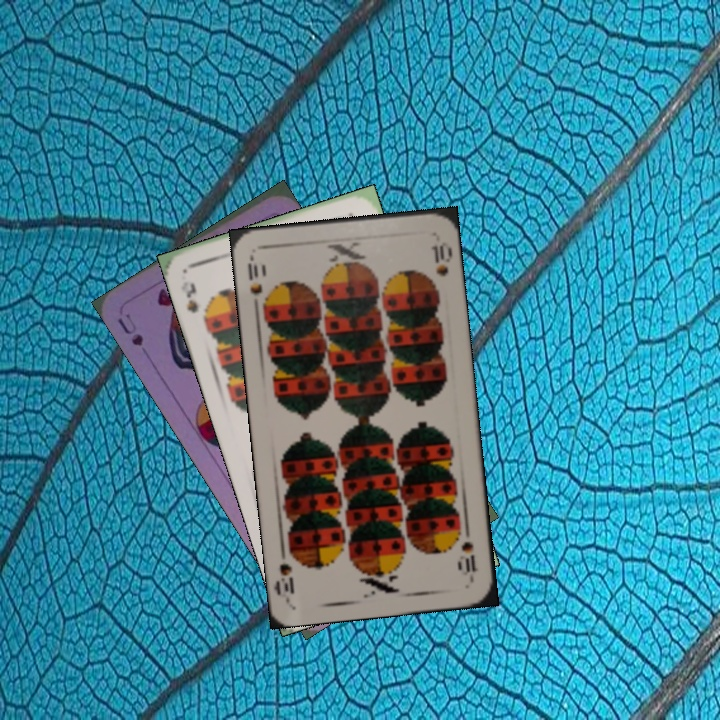S10: (244, 253, 271, 312), (457, 522, 480, 581)
S9: (182, 278, 213, 328)
SU: (113, 309, 146, 349)
